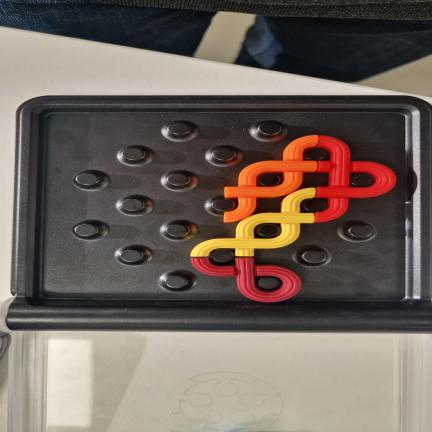A_Yellow: (191, 188, 315, 257)
E_Red: (315, 136, 396, 222)
I_Orange: (224, 136, 318, 222)
J_DarkRed: (191, 257, 301, 302)
board: (9, 96, 432, 331)
hinge: (5, 294, 432, 333)
pin: (254, 223, 281, 238), (257, 122, 282, 137), (348, 224, 373, 239), (212, 147, 236, 162), (304, 146, 328, 161), (119, 249, 143, 264), (302, 249, 326, 264), (122, 147, 145, 162), (167, 122, 191, 136), (75, 173, 99, 187), (74, 223, 98, 237), (211, 249, 235, 263), (257, 276, 281, 290), (350, 173, 373, 187), (167, 173, 190, 187), (212, 198, 235, 212), (303, 198, 326, 212), (165, 275, 188, 289), (258, 173, 281, 186), (121, 199, 144, 212), (166, 224, 189, 237)
